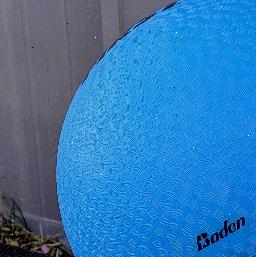algae: (59, 0, 256, 257)
